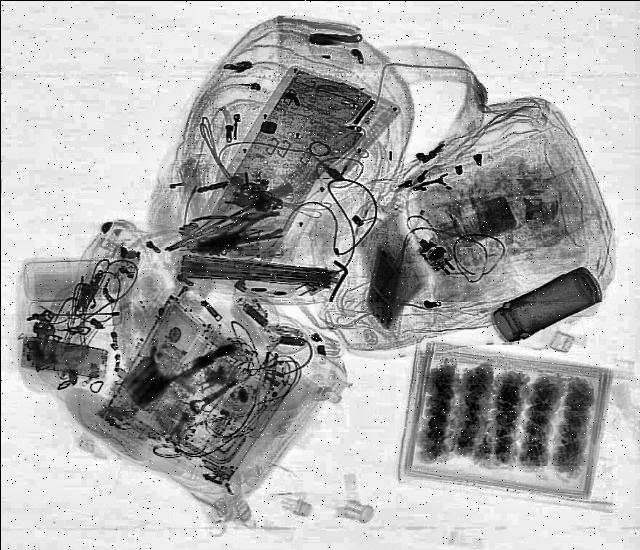Pliers: (210, 207, 290, 252), (191, 200, 265, 242)
